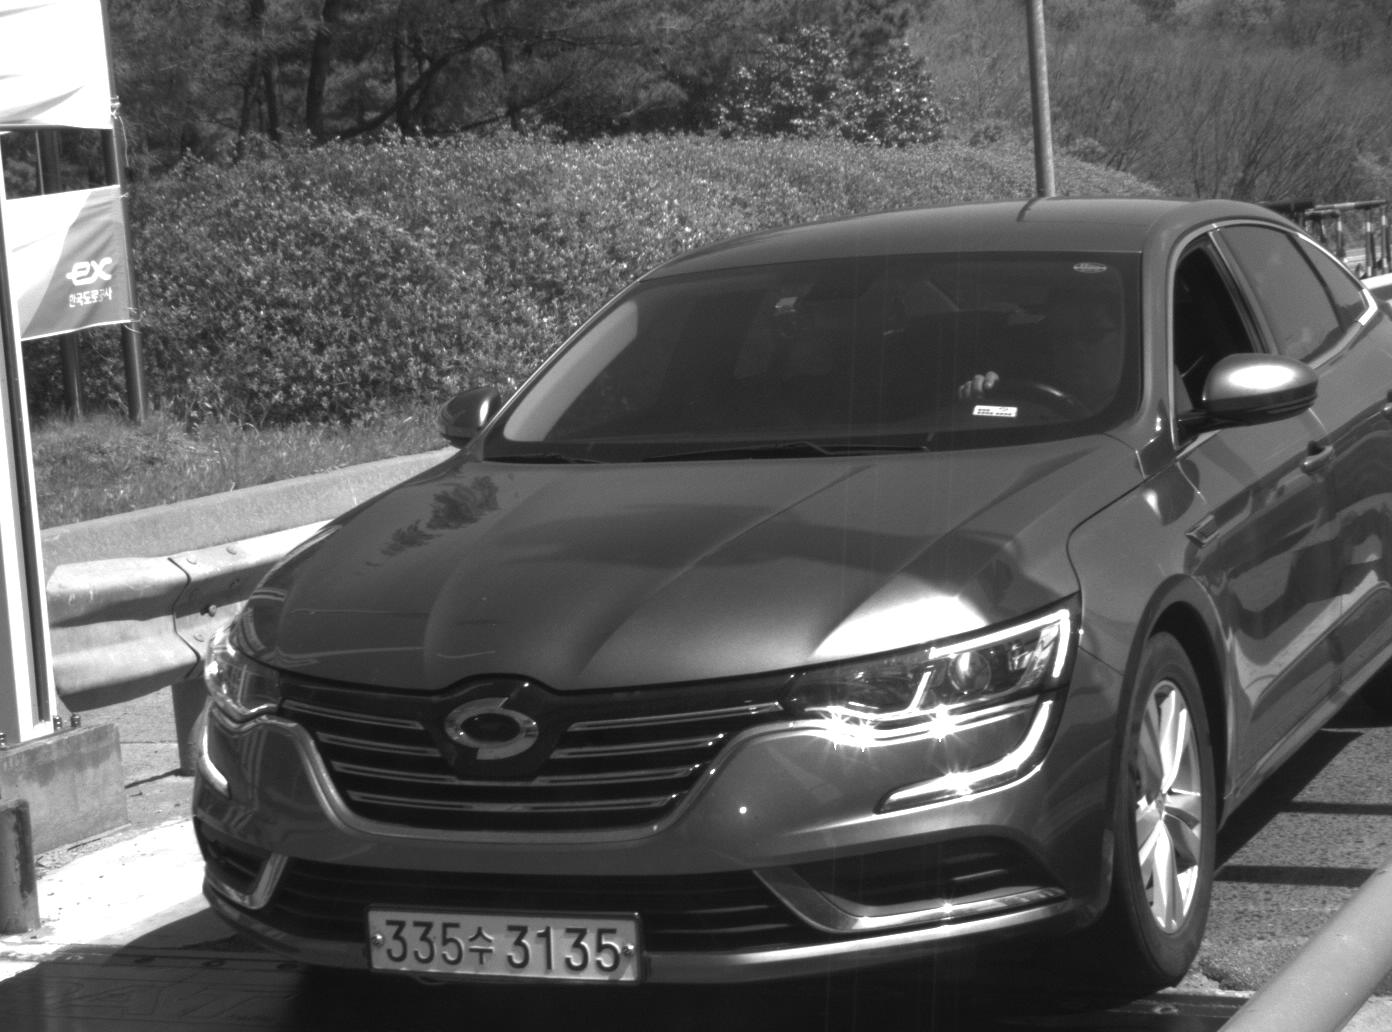car: (183, 194, 1392, 998)
plate: (360, 904, 644, 987)
